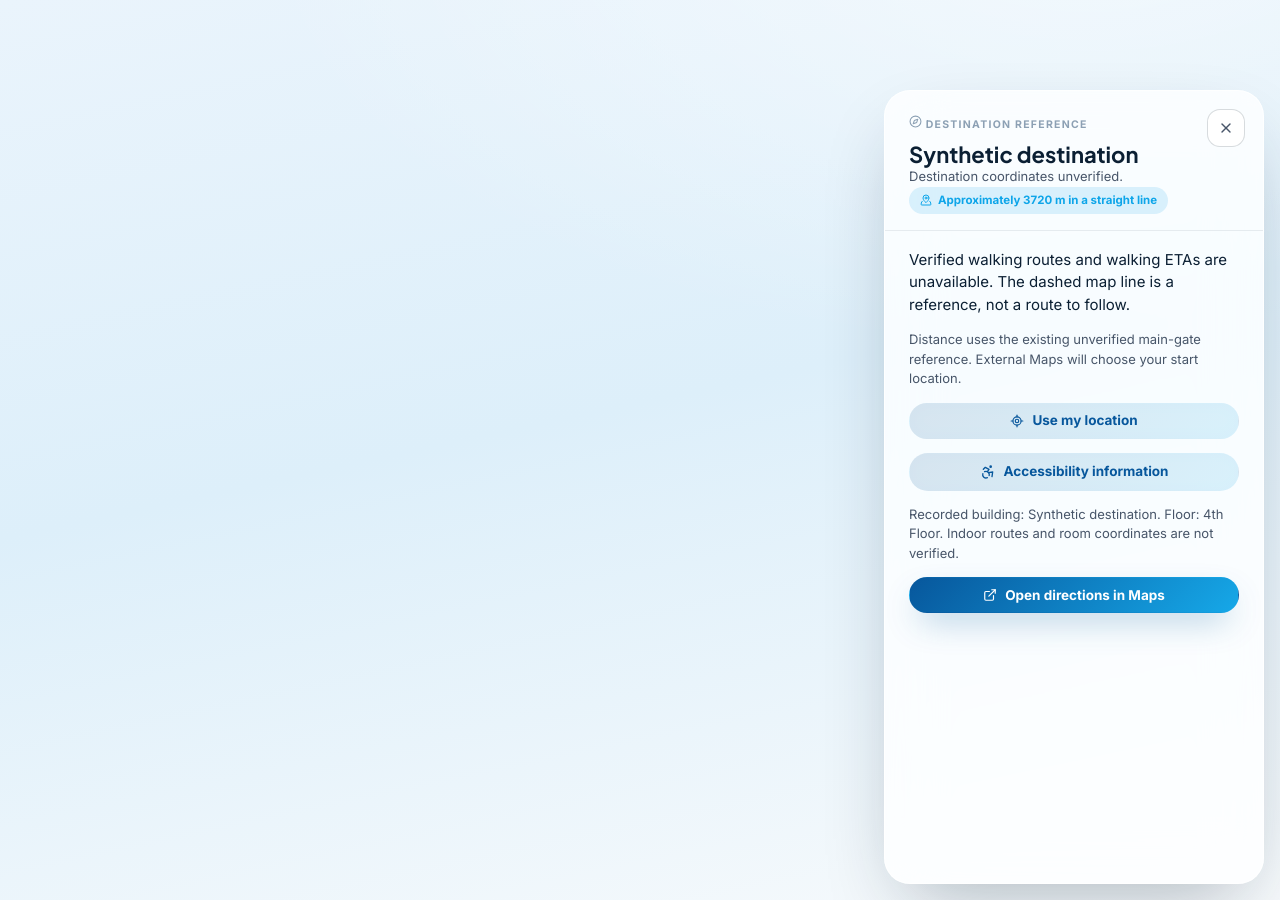
Test: location permission/unavailable/timeout error 1 is visible and retryable
Click the button "Use my location": (1074, 421) [909,403,1239,439]
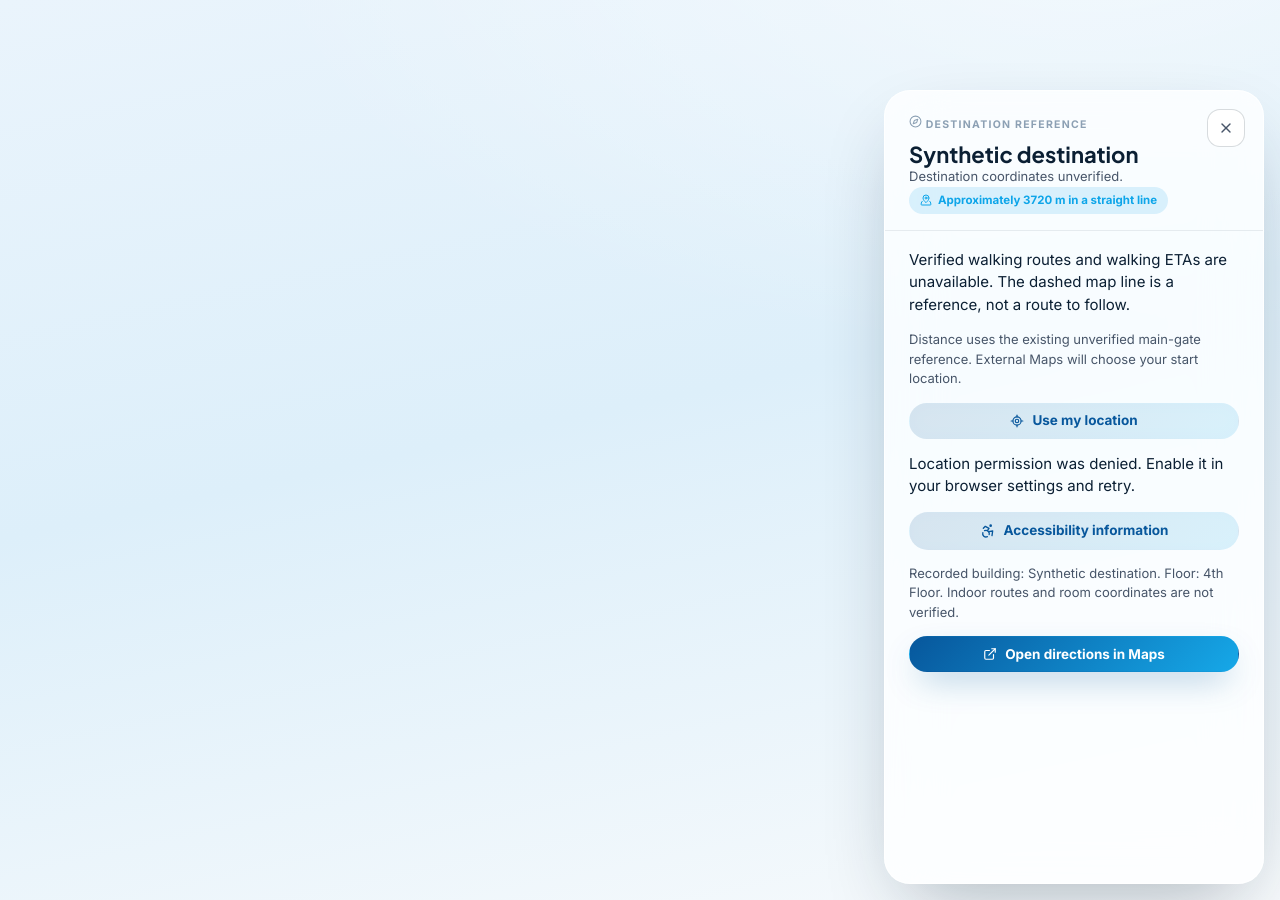
Now the message "Location permission was denied. Enable it in your browser settings and retry." is shown, box [909,453,1239,498]
